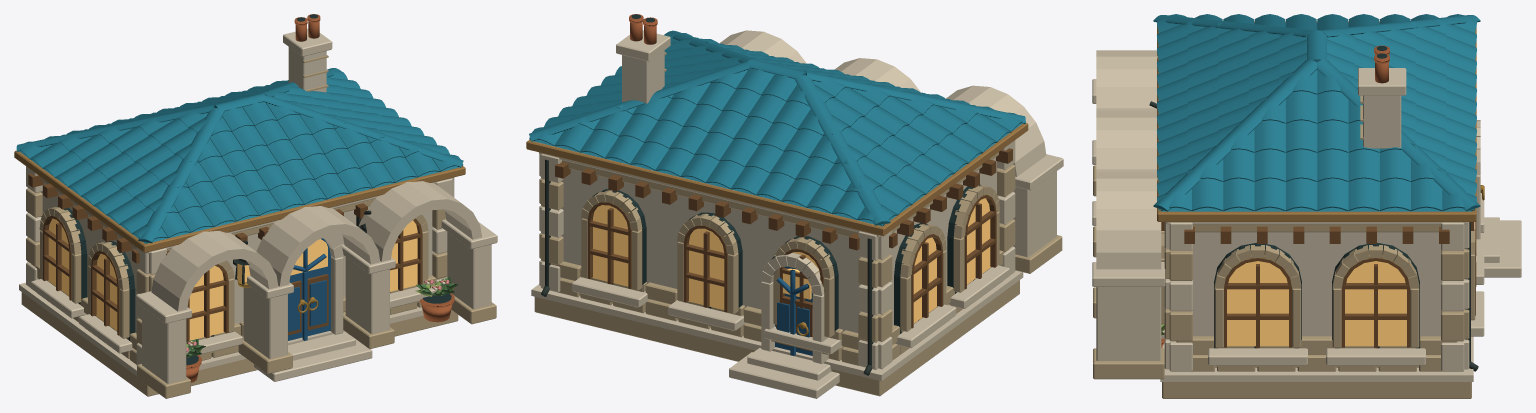
3 views of the same model, side by side, from view 1: azimuth 30°, elevation 25°; view 2: azimuth 150°, elevation 25°; view 3: azimuth 270°, elevation 25° (orthographic). The views are drawn at different scales.
Visible parts, largest first — view 1: harbor_hotel_1_geometry, harbor_hotel_1_geometry ceramic; view 2: harbor_hotel_1_geometry, harbor_hotel_1_geometry ceramic; view 3: harbor_hotel_1_geometry, harbor_hotel_1_geometry ceramic.
Boxes of the visible parts, x1,y1,x2,y2 form: harbor_hotel_1_geometry: (14, 14, 497, 398); harbor_hotel_1_geometry ceramic: (16, 68, 463, 243); harbor_hotel_1_geometry: (526, 14, 1063, 398); harbor_hotel_1_geometry ceramic: (529, 30, 1025, 226); harbor_hotel_1_geometry: (1092, 21, 1521, 398); harbor_hotel_1_geometry ceramic: (1153, 14, 1480, 211).
Bounding box in the file's own units: 0.99 × 0.7203 × 0.9025.
